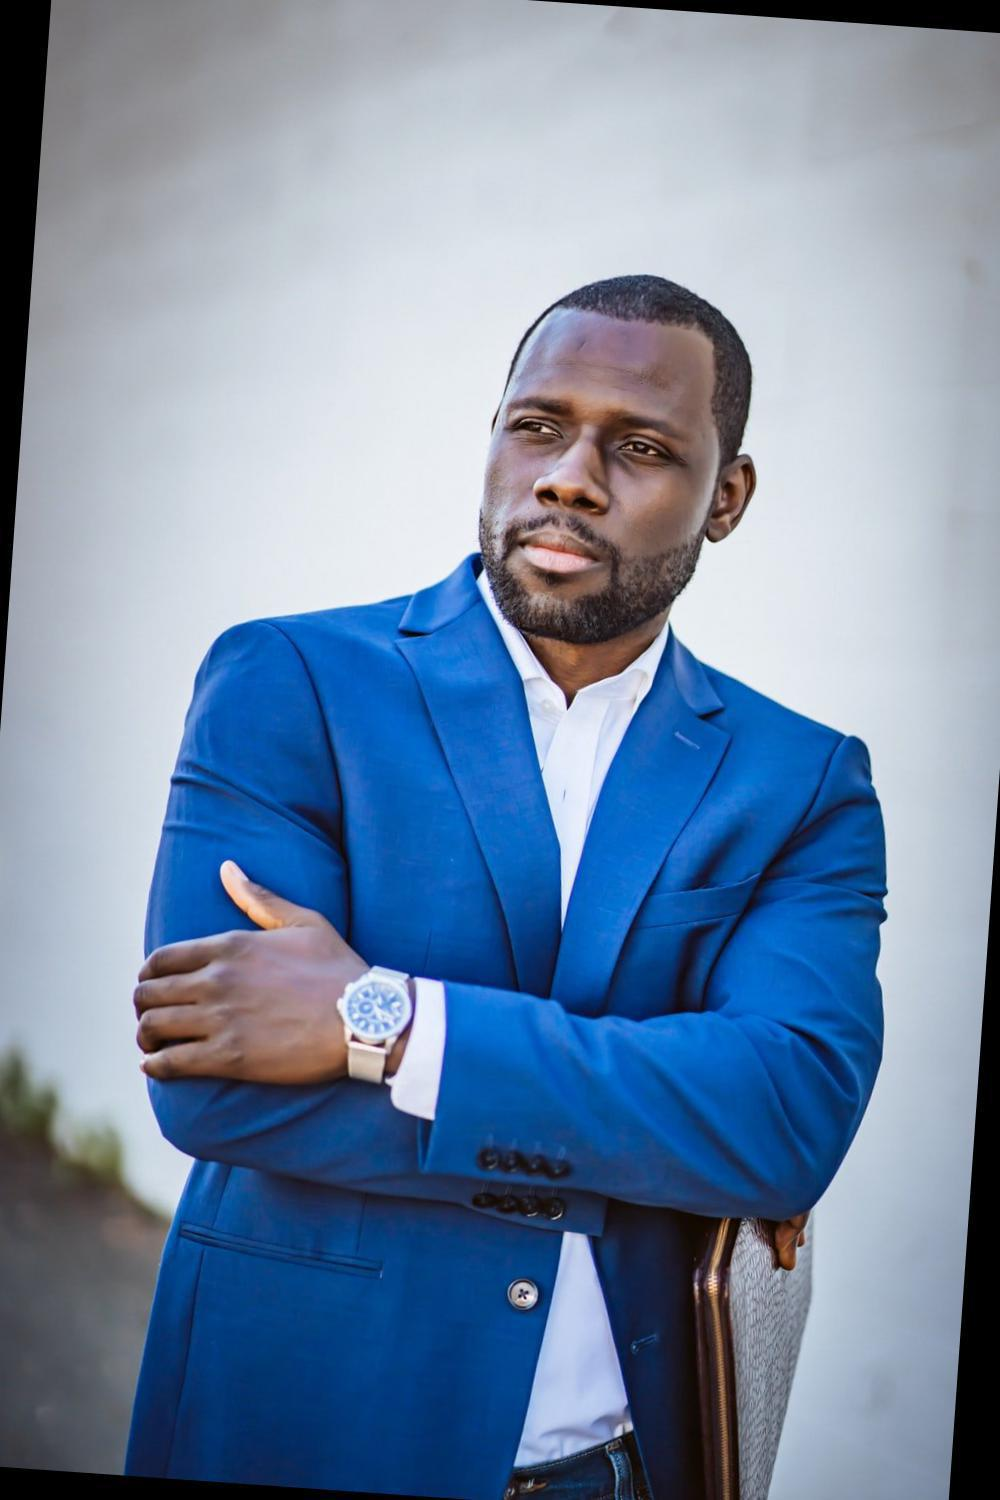Sober: (496, 331, 706, 628)
